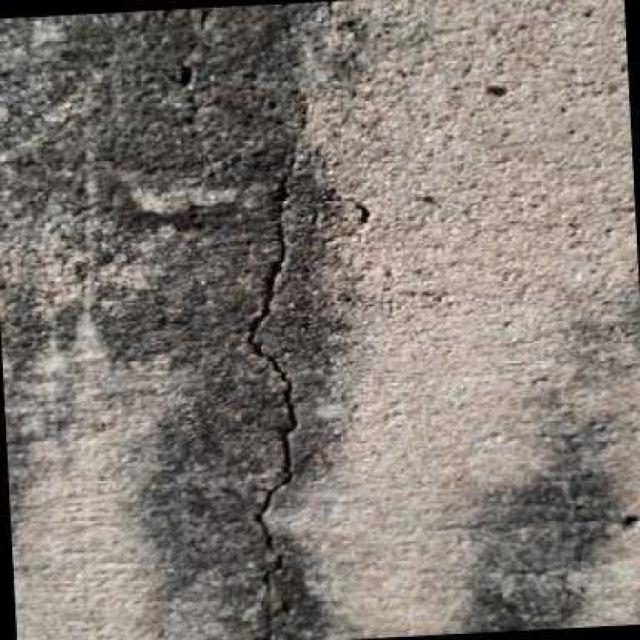D00: (241, 215, 302, 591)
